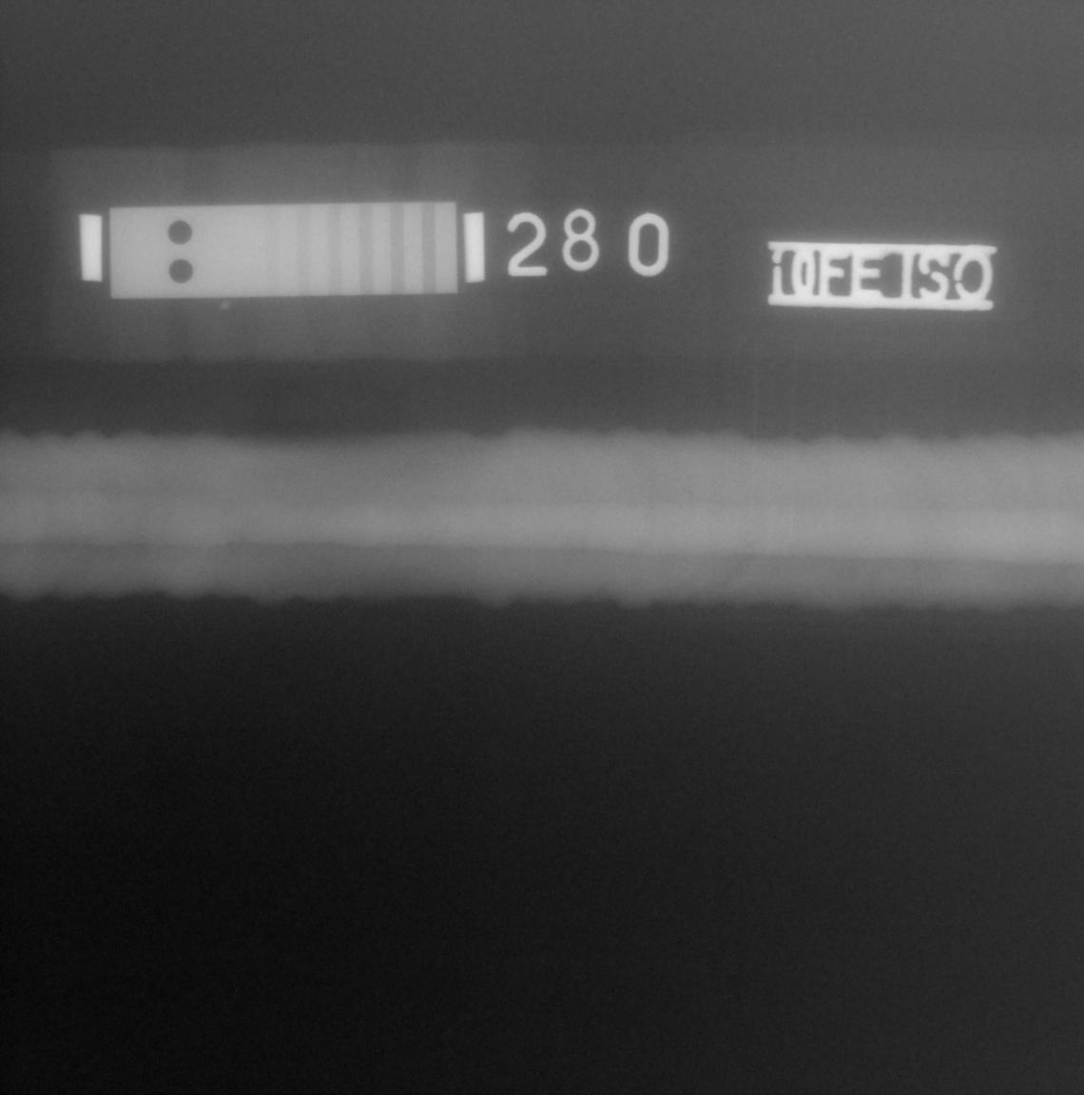Reference Standard 2: (109, 201, 458, 299)
